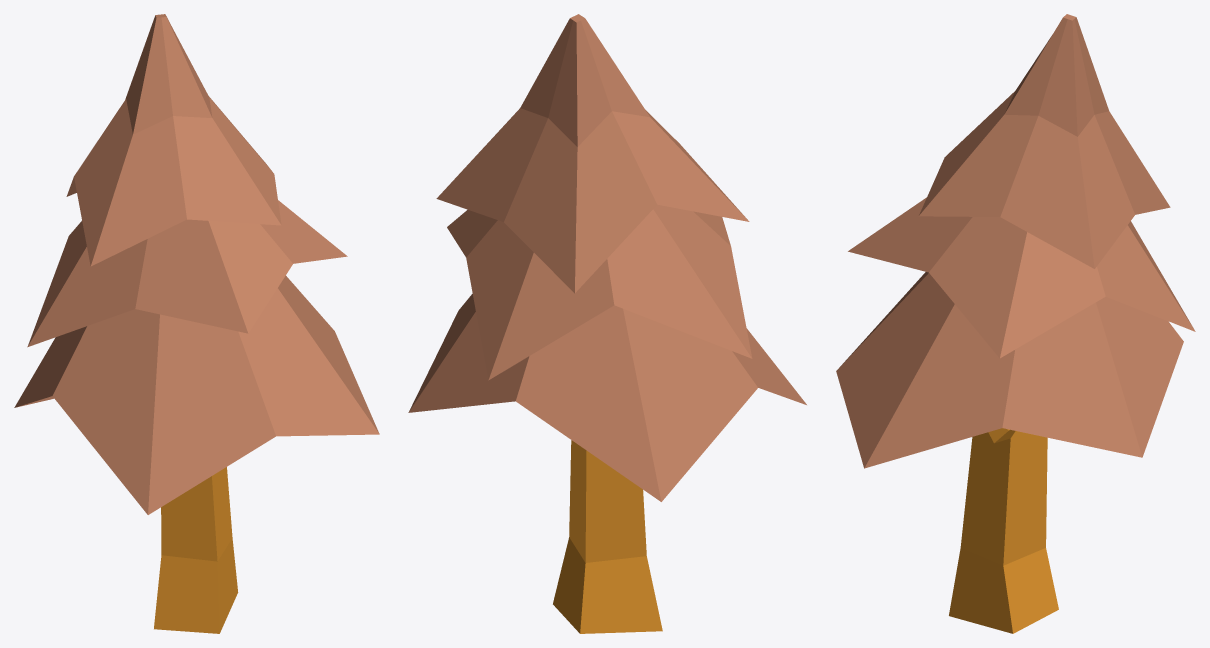
Rendered from pine_tree_3.obj.
The picture shows the model from 3 angles, left to right: view 1: azimuth 30°, elevation 25°; view 2: azimuth 150°, elevation 25°; view 3: azimuth 270°, elevation 25°; orthographic projection. The views are drawn at different scales.
Visible parts, largest first — view 1: pine_tree_3; view 2: pine_tree_3; view 3: pine_tree_3.
Boxes of the visible parts, <box> form: pine_tree_3: <box>14,14,379,633</box>; pine_tree_3: <box>408,14,806,633</box>; pine_tree_3: <box>836,14,1195,633</box>.
Bounding box in the file's own units: 12.97 × 23.85 × 12.94.
